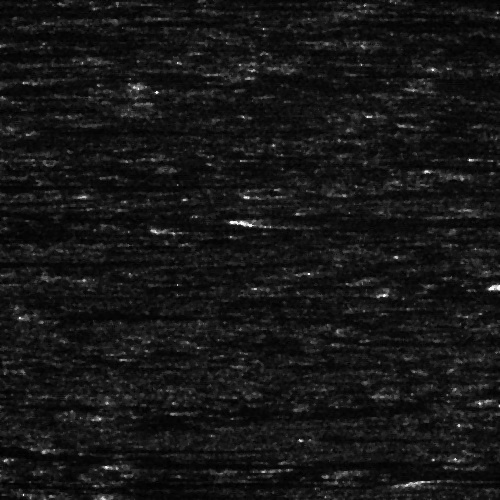object: (343, 474, 500, 487), (56, 489, 181, 500), (444, 412, 497, 435), (1, 308, 94, 321), (196, 215, 289, 224), (97, 460, 160, 467), (482, 287, 500, 298), (411, 83, 432, 88), (482, 281, 500, 284)
shadow: (47, 308, 255, 321), (129, 460, 500, 467), (243, 215, 500, 224), (0, 177, 201, 188), (119, 489, 251, 500), (0, 256, 110, 267), (427, 474, 500, 487), (471, 412, 500, 435), (422, 83, 500, 88)
